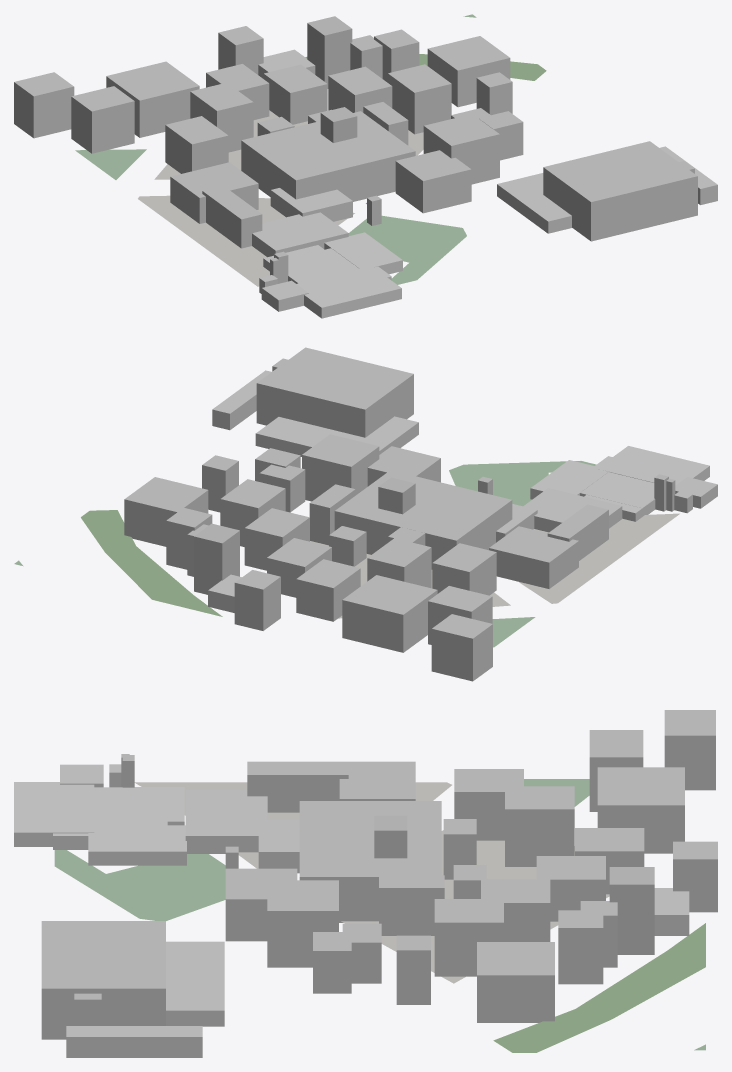
The model's file is 132_89_mid.glb.
3 renders of one model, top to bottom at view 1: azimuth 30°, elevation 25°; view 2: azimuth 150°, elevation 25°; view 3: azimuth 270°, elevation 25°, orthographic. The views are drawn at different scales.
Size of the model in its own units: 523 by 64.4 by 540.
